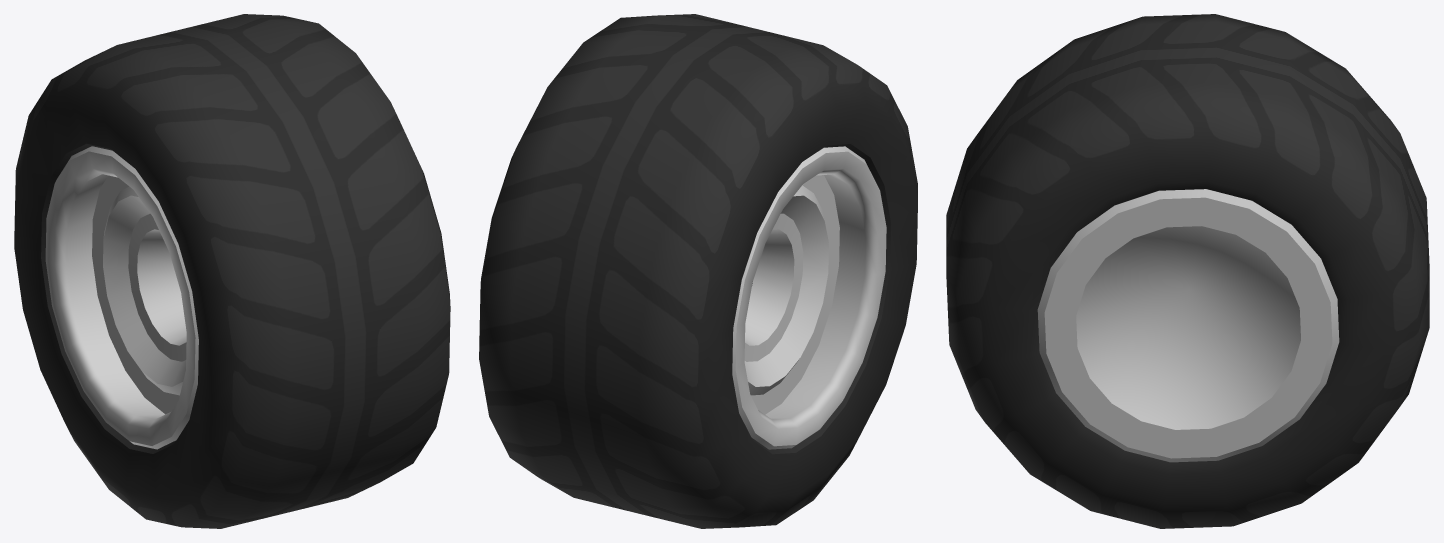
File: Car_01_Wheel_BR.fbx
3 renders of one model, left to right at view 1: azimuth 30°, elevation 25°; view 2: azimuth 150°, elevation 25°; view 3: azimuth 270°, elevation 25°, orthographic. The views are drawn at different scales.
Visible parts, largest first — view 1: Car_01_Wheel_BR; view 2: Car_01_Wheel_BR; view 3: Car_01_Wheel_BR.
Boxes of the visible parts, x1,y1,x2,y2 form: Car_01_Wheel_BR: (14, 14, 450, 528); Car_01_Wheel_BR: (479, 14, 917, 528); Car_01_Wheel_BR: (946, 14, 1429, 528).
Size of the model in its own units: 52.74 by 95 by 95.
